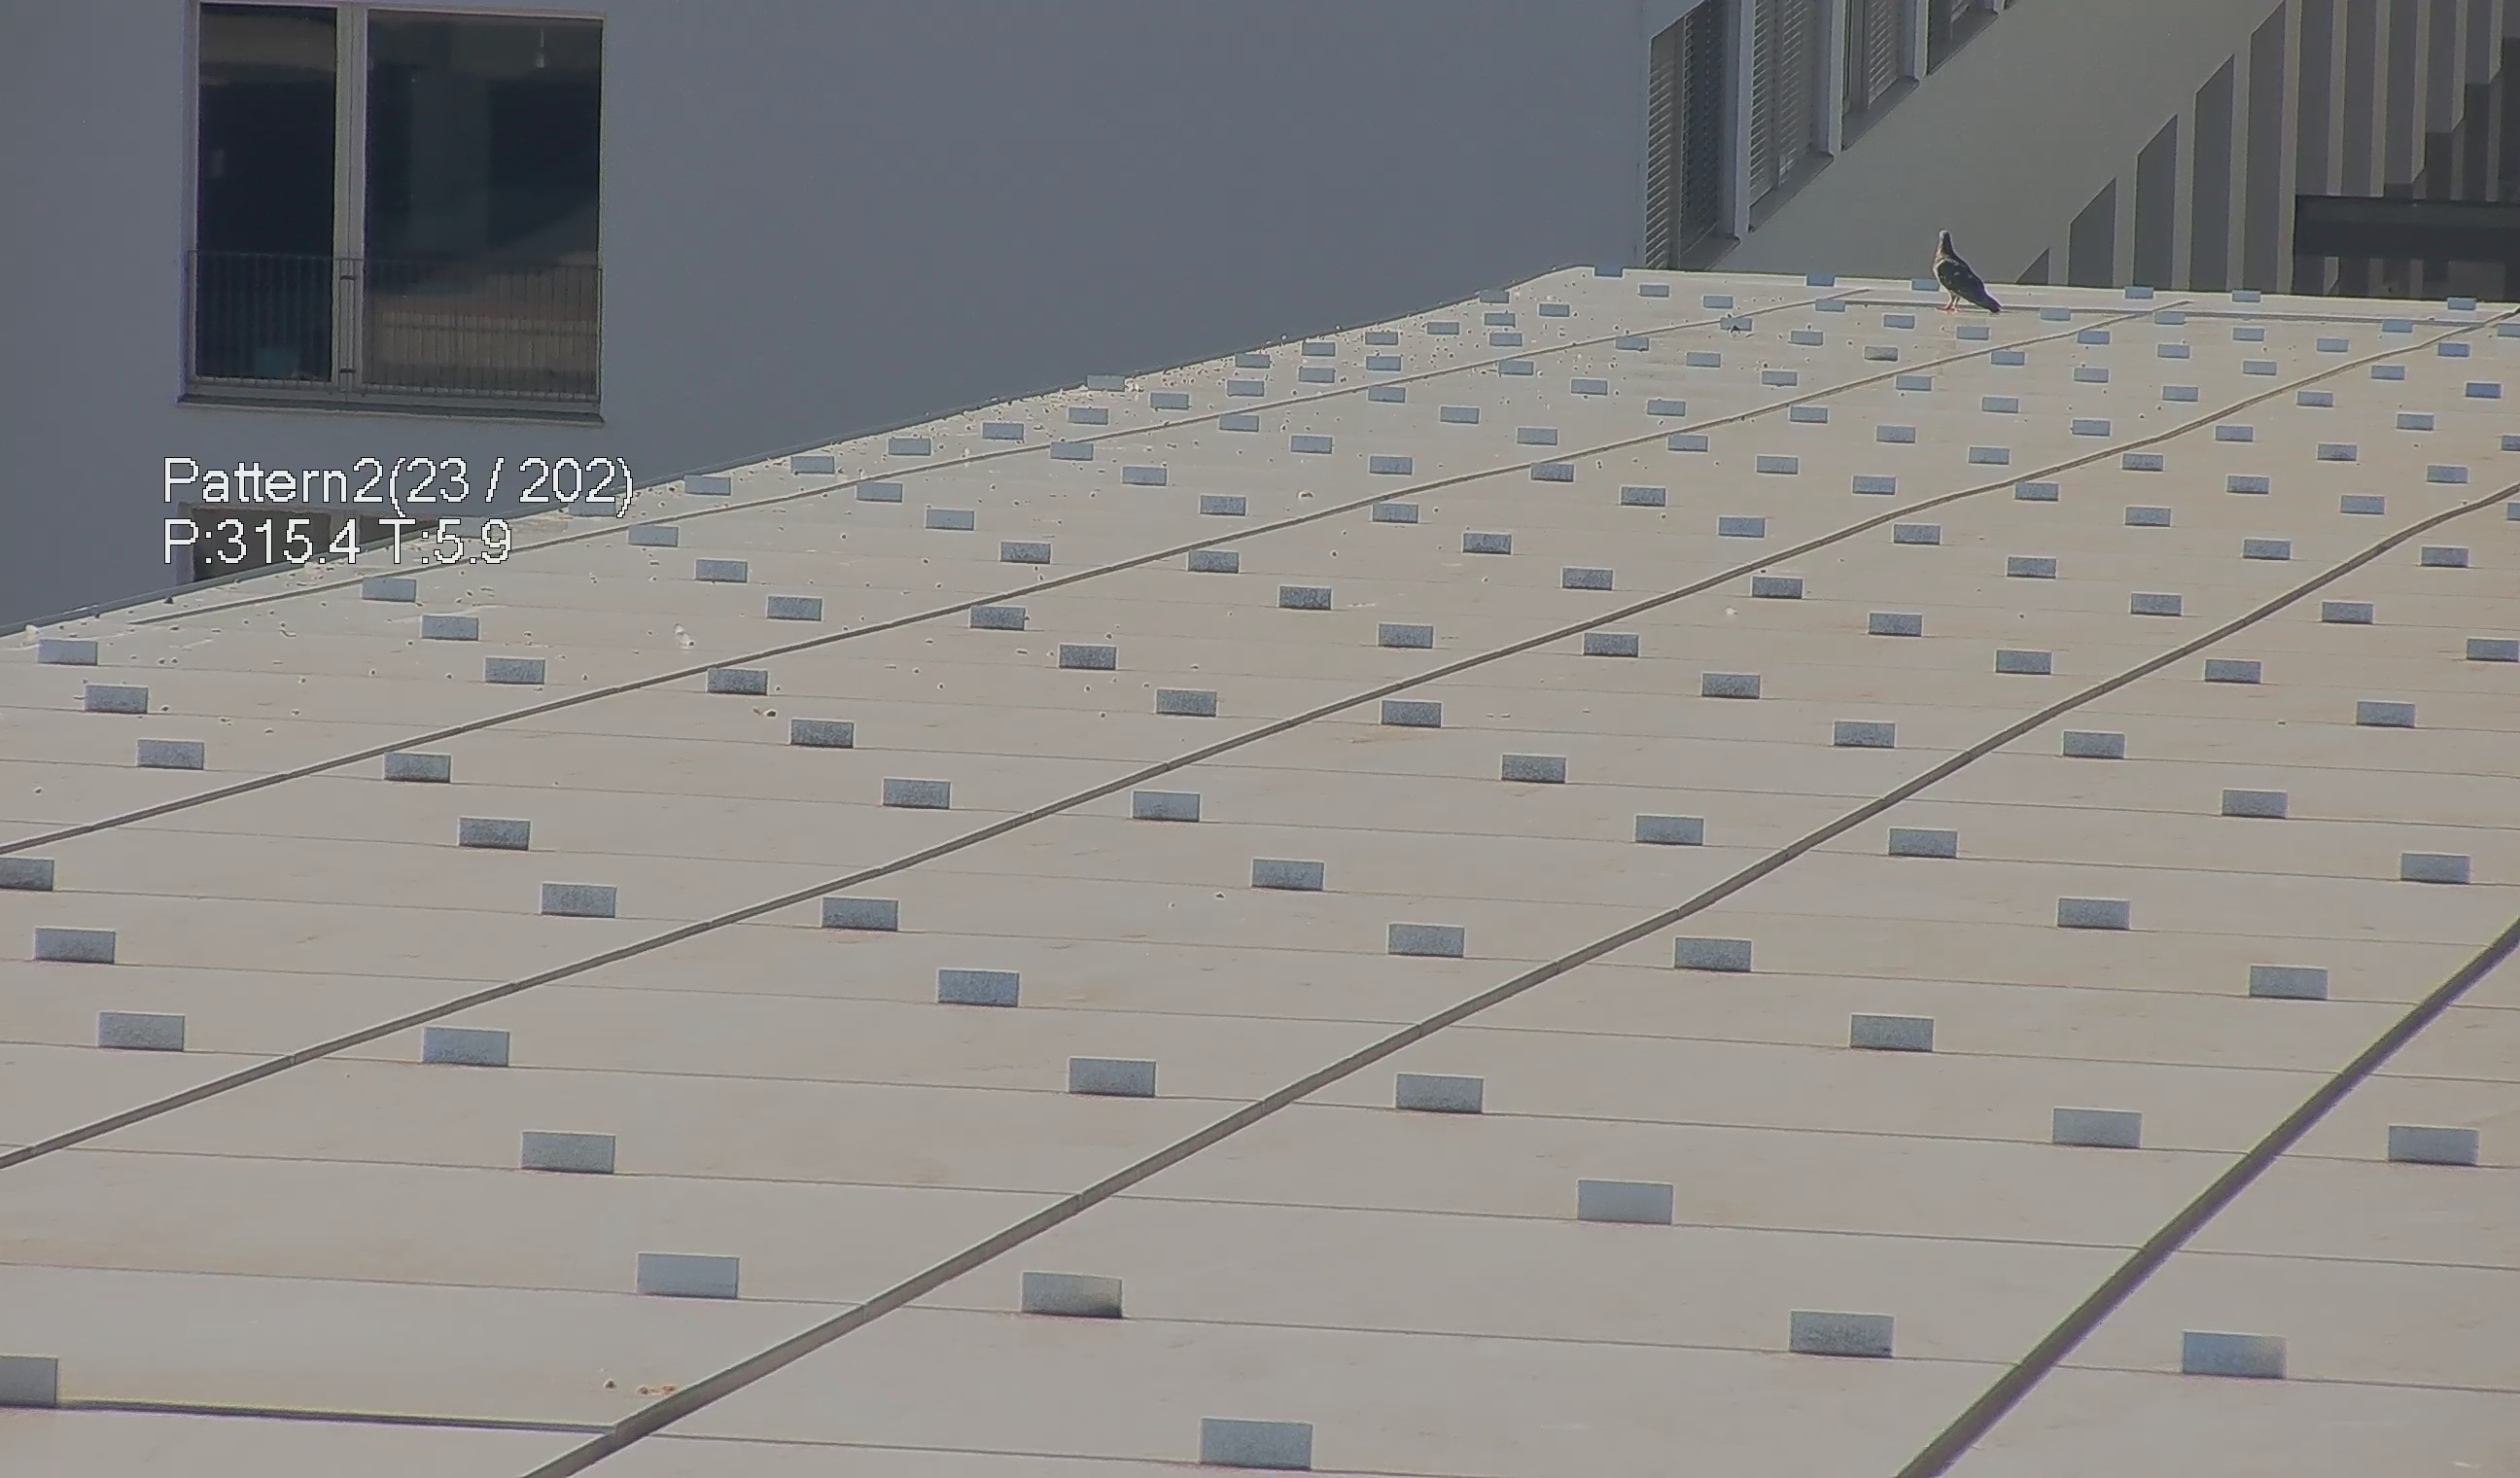Pigeon: (1929, 215, 2029, 318)
